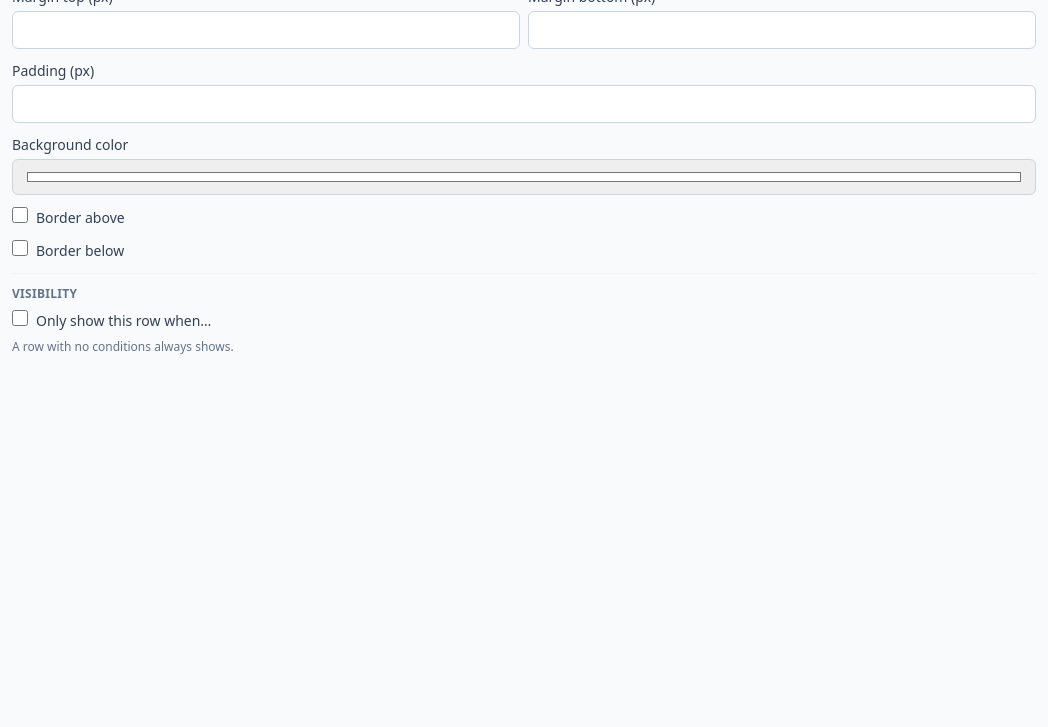
Test: InspectorPanel row Visibility section › Add condition is disabled once the rule cap is reached
The image size is (1048, 727).
Step 1. Click the checkbox labelled "Only show this row when…" → coordinates (20, 318), box x1=12 y1=310 x2=28 y2=326
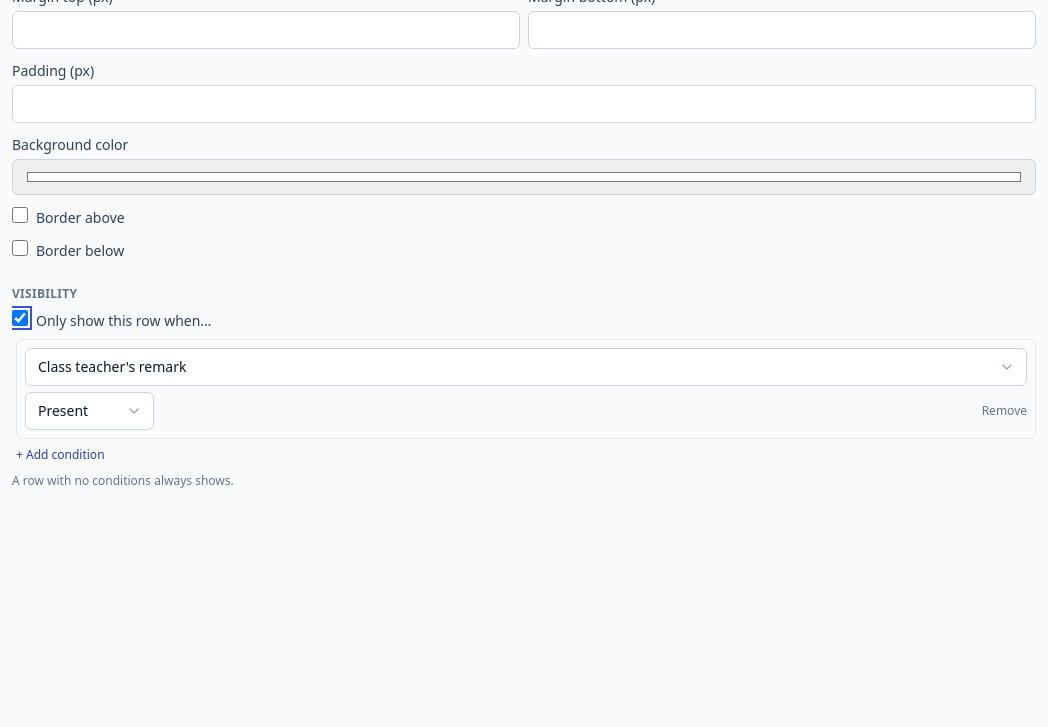
Step 2. Click the button "+ Add condition" → coordinates (60, 455), box x1=16 y1=447 x2=105 y2=463
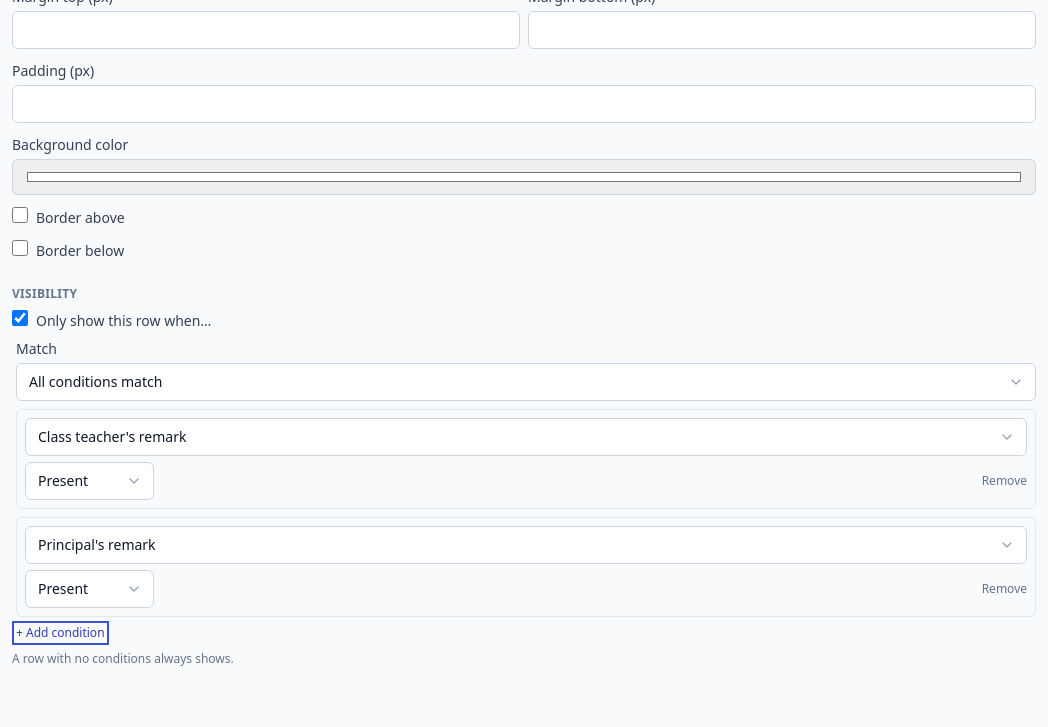
Step 3. Click the button "+ Add condition" → coordinates (60, 633), box x1=16 y1=625 x2=105 y2=641
(page scrolled)
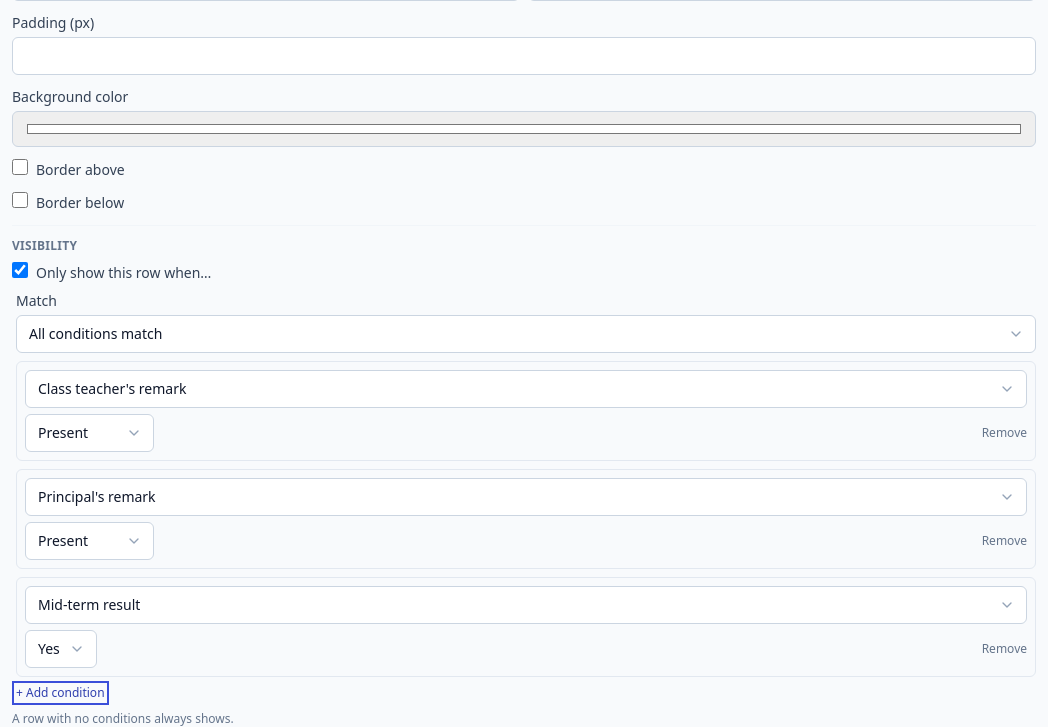
Step 4. Click the button "+ Add condition" → coordinates (60, 693), box x1=16 y1=685 x2=105 y2=701
(page scrolled)
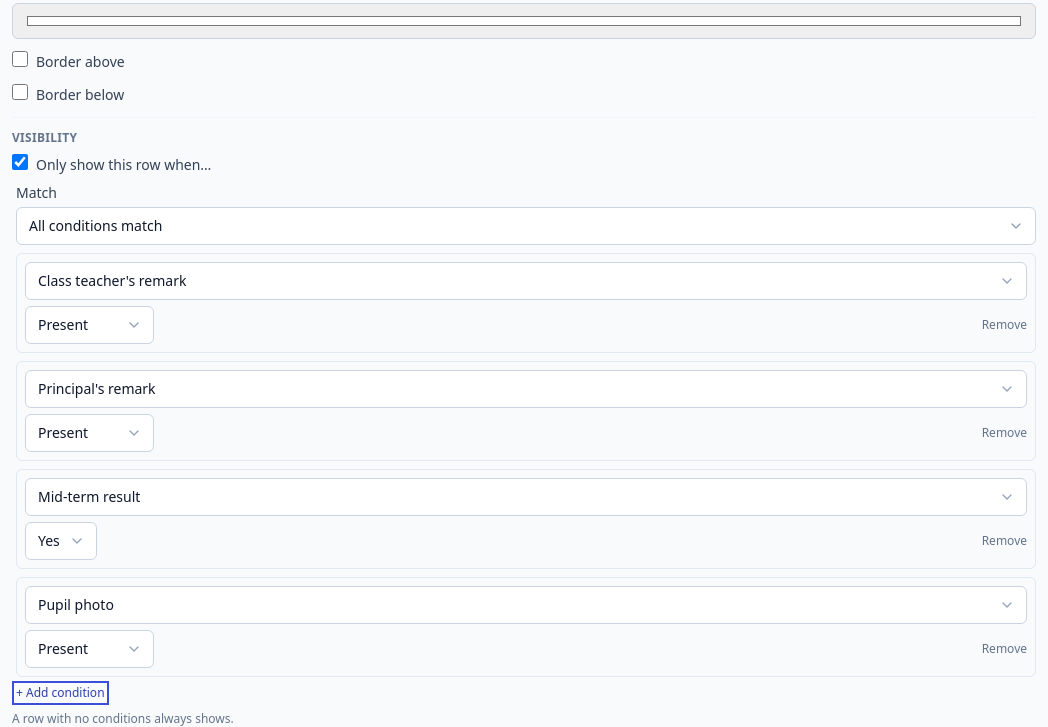
Step 5. Click the button "+ Add condition" → coordinates (60, 693), box x1=16 y1=685 x2=105 y2=701
(page scrolled)
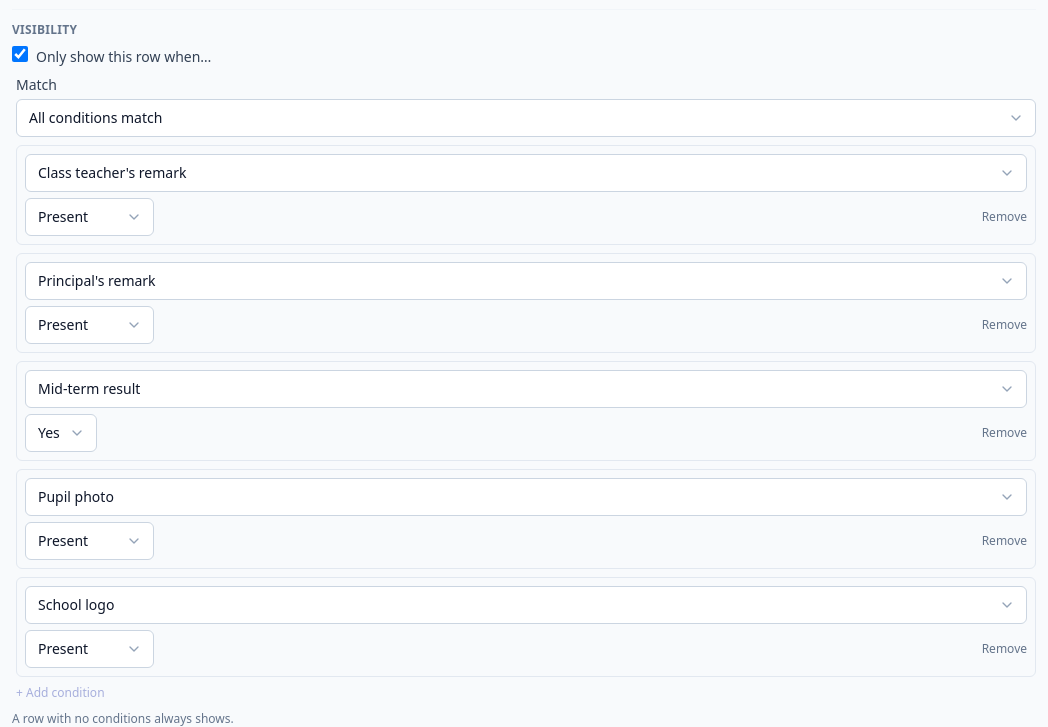
Expected: the number of dropdowns named "Condition" is 5, x1=25 y1=154 x2=1027 y2=192; x1=25 y1=262 x2=1027 y2=300; x1=25 y1=370 x2=1027 y2=408; x1=25 y1=478 x2=1027 y2=516; x1=25 y1=586 x2=1027 y2=624
Expected: the button "+ Add condition" is disabled, x1=16 y1=685 x2=105 y2=701
